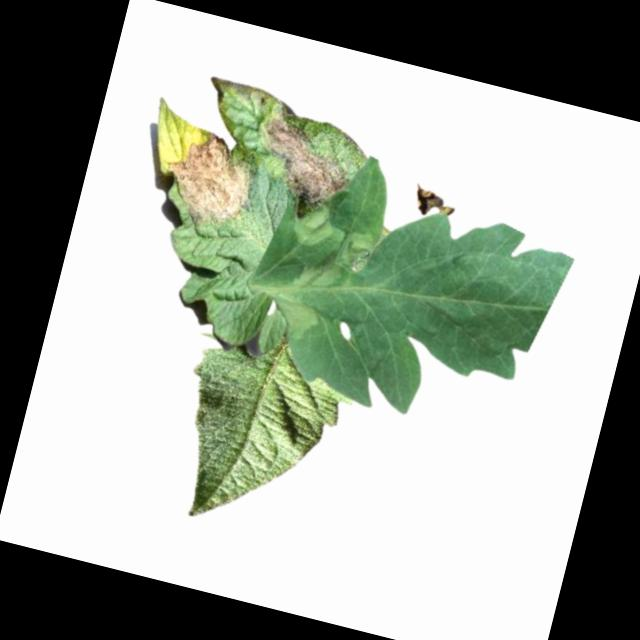Late_blight: (150, 118, 267, 236), (240, 111, 360, 226), (262, 287, 322, 345), (282, 195, 338, 253), (286, 257, 340, 303), (333, 226, 377, 276), (409, 178, 451, 221)
healthy: (156, 323, 363, 550)
